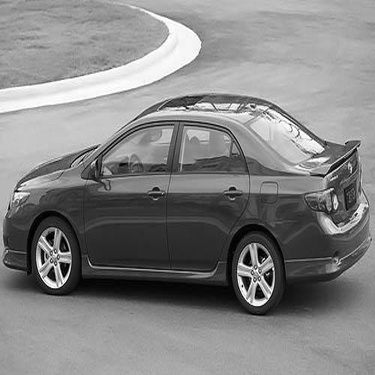car: (1, 92, 373, 317)
